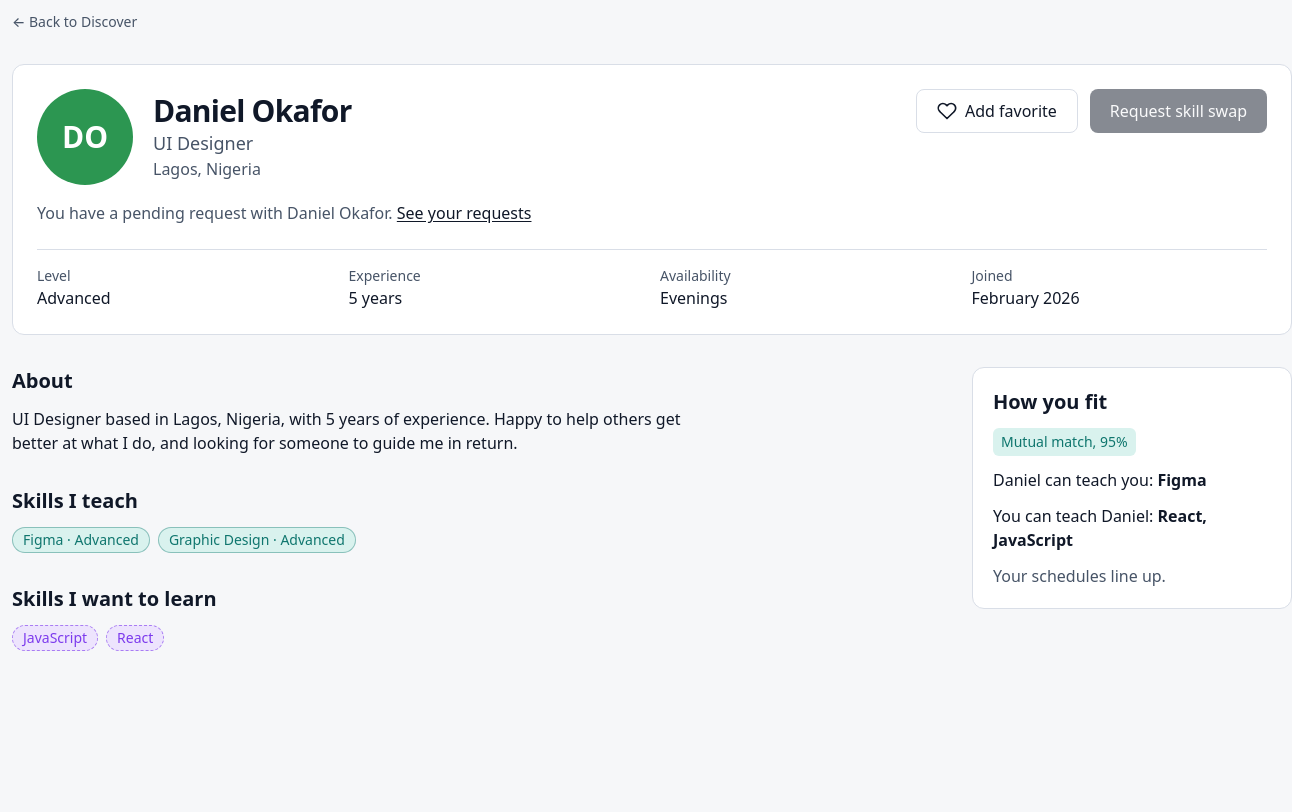
Test: ProfileView: favorites › goes back and shows a message if the server fails
Click the button "Add favorite" at (997, 111), box 916,89 -> 1078,133
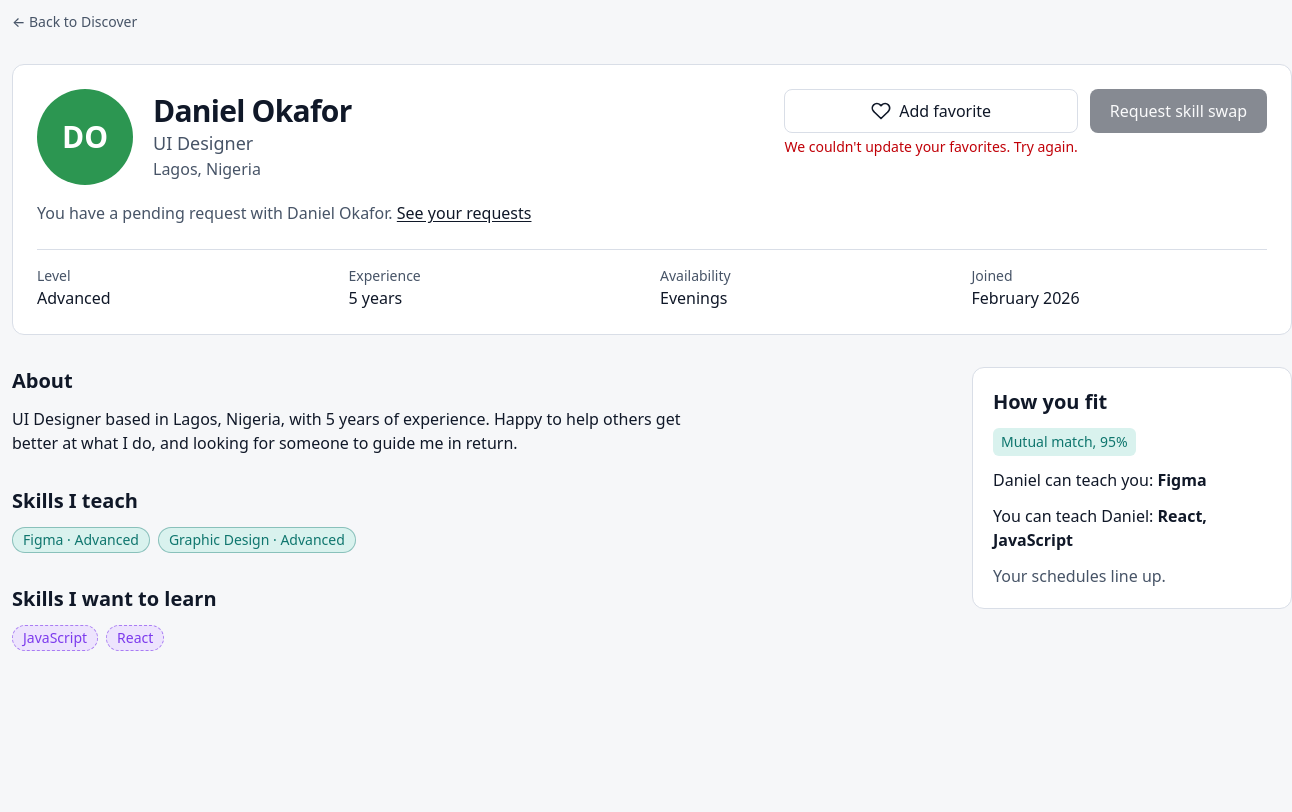
Check: the button "Add favorite" is enabled, box 784,89 -> 1078,133
Check: the message shows "We couldn't update your favorites.", box 784,137 -> 1078,156
